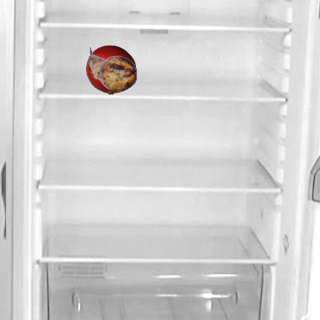Apple Braeburn: (85, 44, 135, 94)
Pear Abate: (87, 44, 137, 94)
